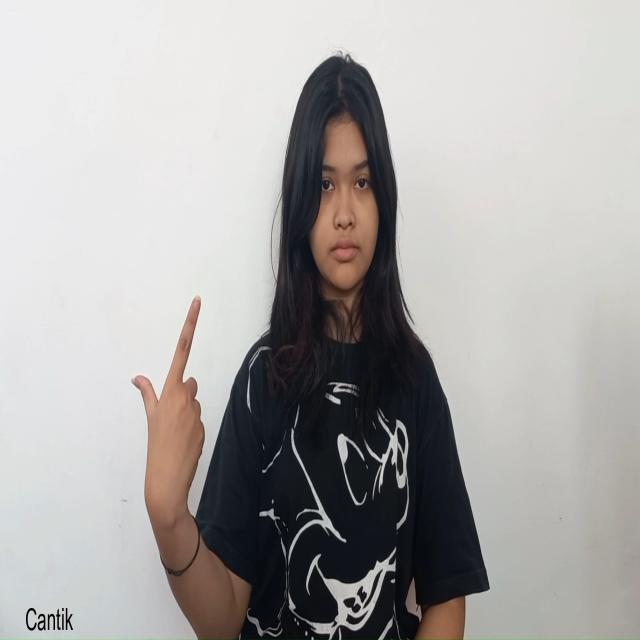Cantik -BISINDO-: (129, 292, 206, 548)
